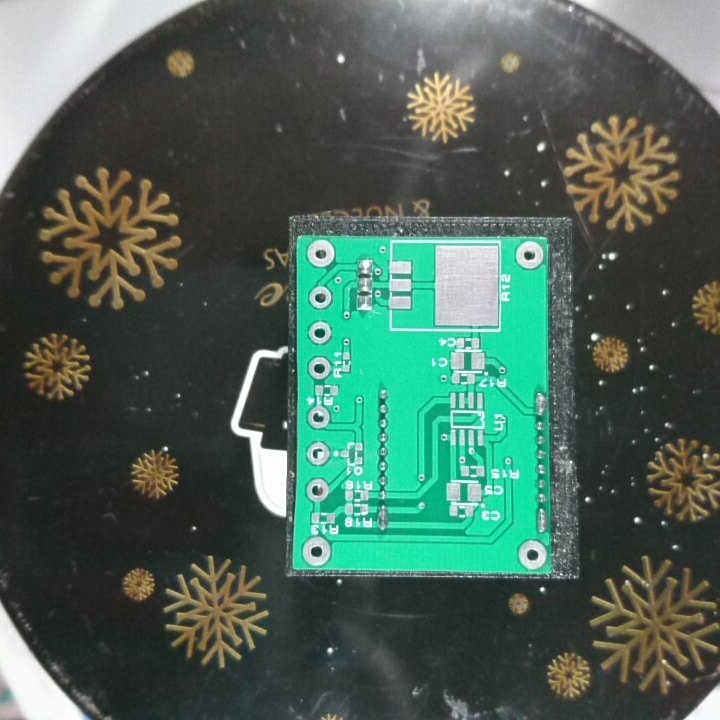F: (513, 239, 548, 272), (299, 534, 333, 566), (515, 538, 549, 570), (304, 238, 337, 269), (305, 318, 334, 346), (304, 439, 331, 469), (305, 353, 332, 381), (305, 402, 332, 430), (303, 476, 331, 503), (307, 285, 333, 310)
P: (531, 387, 548, 418), (534, 505, 548, 535), (376, 503, 390, 532)
